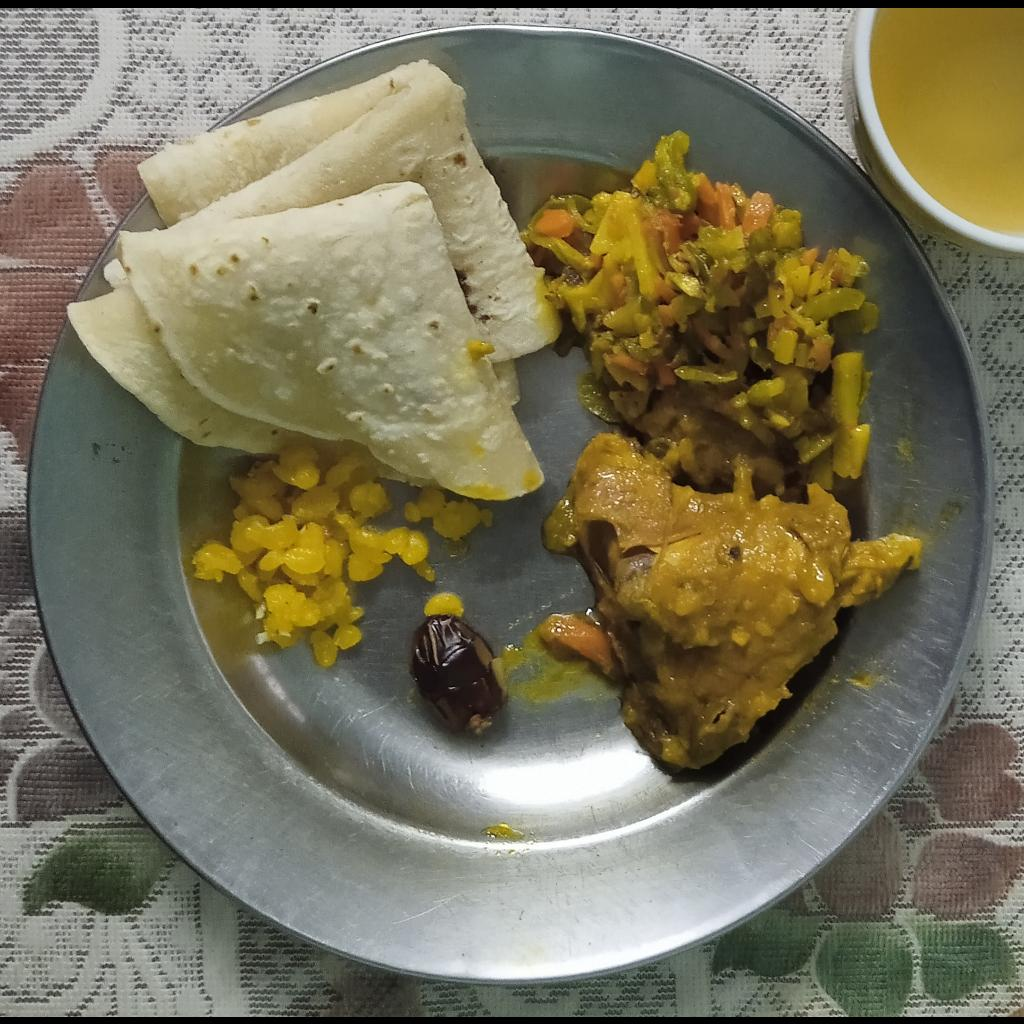burinda: (194, 457, 434, 663), (404, 486, 492, 536), (425, 593, 462, 613)
chicken: (542, 434, 919, 779)
dates: (408, 614, 515, 739)
ruti: (66, 58, 566, 500)
vegetable: (527, 127, 873, 487)
